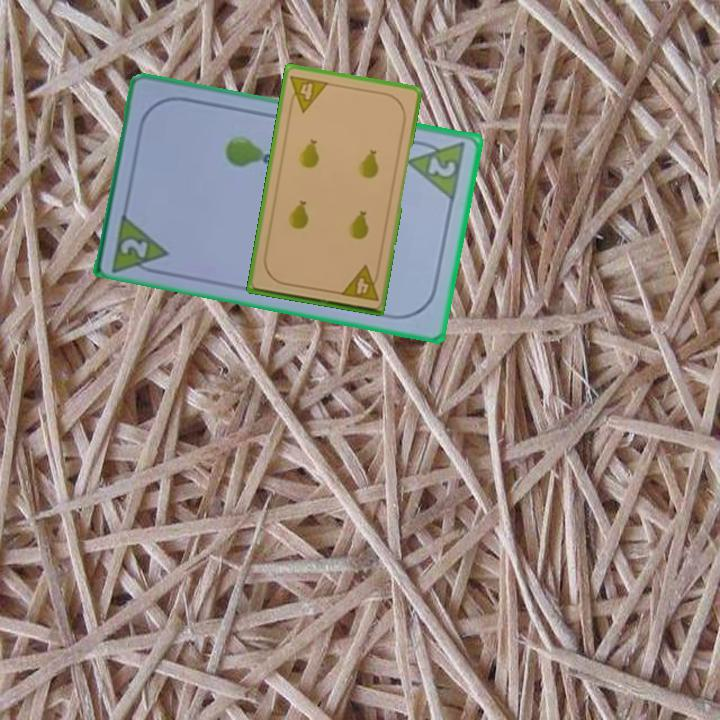2p: (404, 135, 469, 203), (117, 234, 151, 261)
4p: (285, 72, 331, 115), (337, 262, 382, 304)
